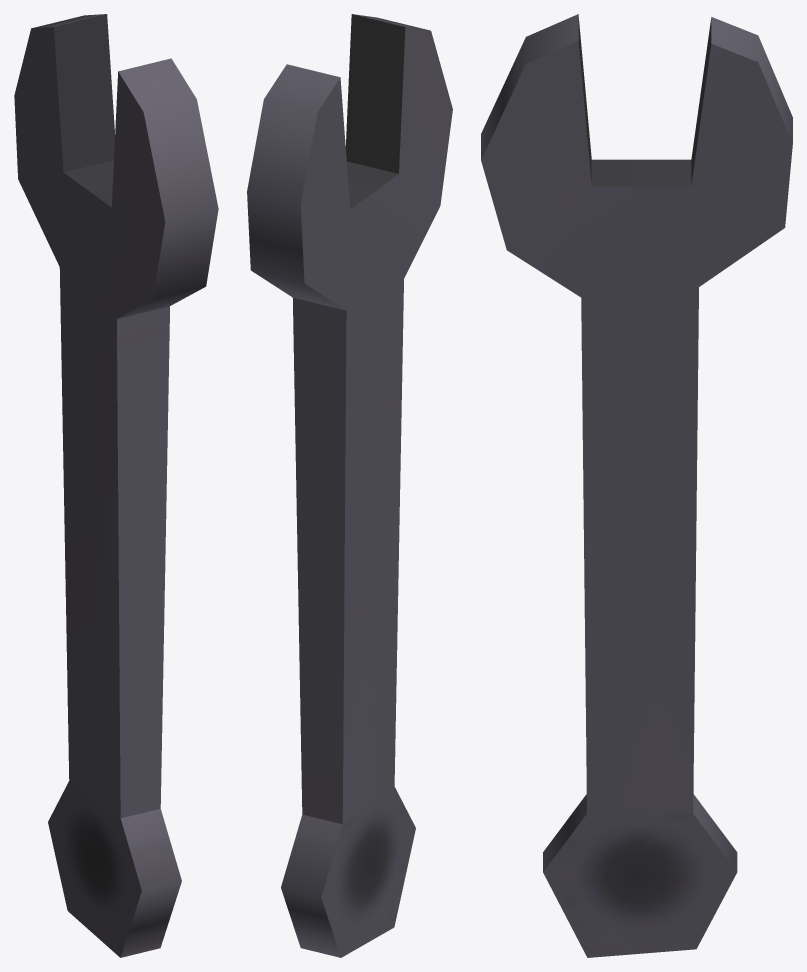
File: w_wrench.FBX
The picture shows the model from 3 angles, left to right: view 1: azimuth 30°, elevation 25°; view 2: azimuth 150°, elevation 25°; view 3: azimuth 270°, elevation 25°; orthographic projection. The views are drawn at different scales.
Parts seen in each view (by area): view 1: w_wrench; view 2: w_wrench; view 3: w_wrench.
Boxes of the visible parts, <box> form: w_wrench: <box>14,14,218,957</box>; w_wrench: <box>247,14,452,957</box>; w_wrench: <box>481,14,792,957</box>.
Bounding box in the file's own units: 2.25 × 35.99 × 11.05.
1 material, 1 textured.
